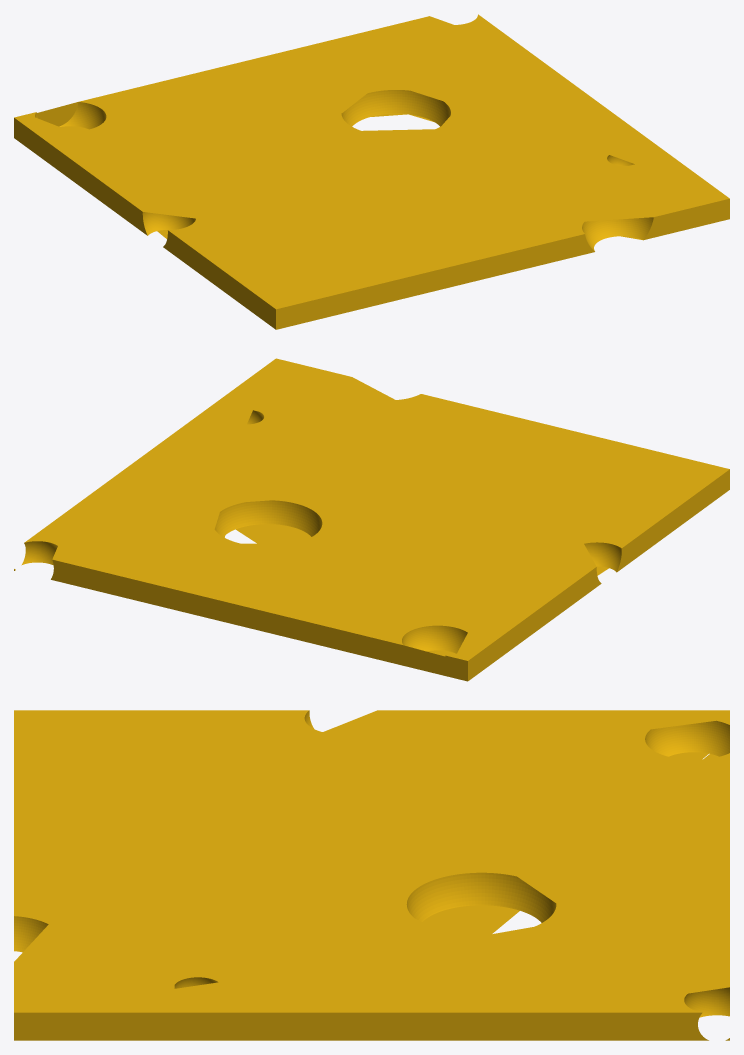
The model's file is Cheese.fbx.
The picture shows the model from 3 angles, top to bottom: view 1: azimuth 30°, elevation 25°; view 2: azimuth 150°, elevation 25°; view 3: azimuth 270°, elevation 25°; orthographic projection. The views are drawn at different scales.
Parts seen in each view (by area): view 1: Cube; view 2: Cube; view 3: Cube.
Boxes of the visible parts, x1,y1,x2,y2 form: Cube: (14,14,729,329); Cube: (14,358,729,681); Cube: (14,710,729,1040).
Bounding box in the file's own units: 200 × 8.65 × 200.
